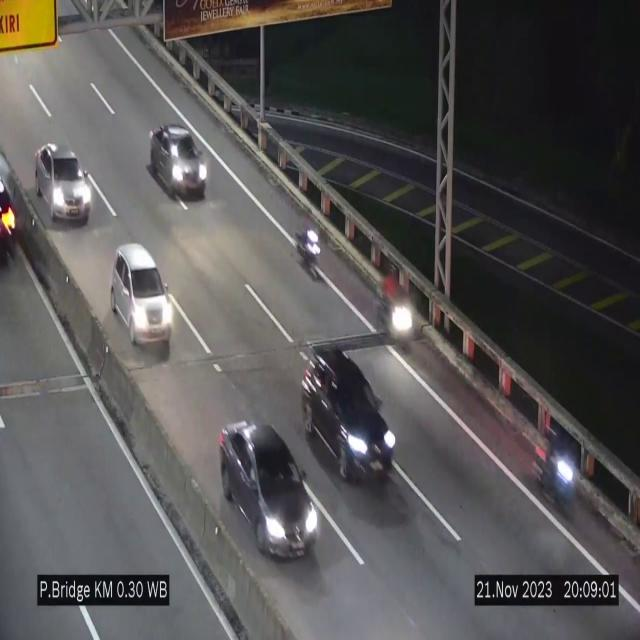Car: (300, 341, 396, 491), (219, 421, 321, 557), (111, 245, 174, 351), (35, 142, 91, 222), (148, 125, 207, 199)
Motorcycle: (542, 420, 576, 526), (383, 271, 415, 359), (296, 210, 321, 292)
